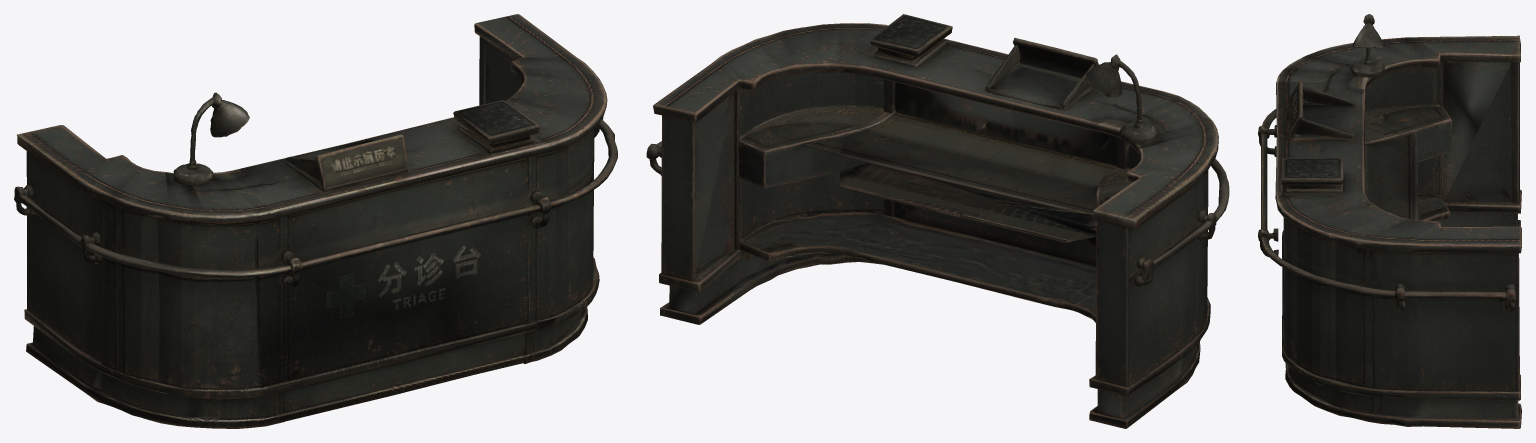
File: triage desk.fbx
3 views of the same model, side by side, from view 1: azimuth 30°, elevation 25°; view 2: azimuth 150°, elevation 25°; view 3: azimuth 270°, elevation 25° (orthographic). The views are drawn at different scales.
Visible parts, largest first — view 1: mesh_node; view 2: mesh_node; view 3: mesh_node.
Boxes of the visible parts, left/top/right/bottom form: mesh_node: left=14, top=14, right=617, bottom=428; mesh_node: left=646, top=14, right=1229, bottom=428; mesh_node: left=1258, top=14, right=1521, bottom=428.
Size of the model in its own units: 100 by 55.27 by 51.76.
Materials: 1 (1 with a texture image).
